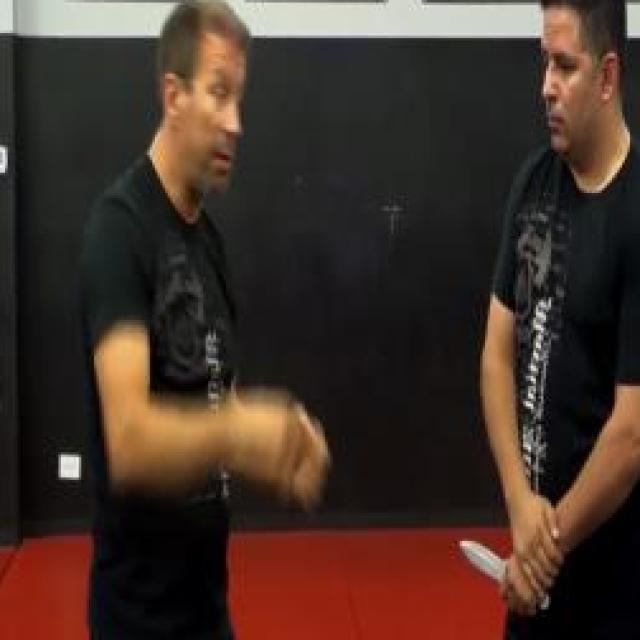knife: (452, 526, 554, 620)
